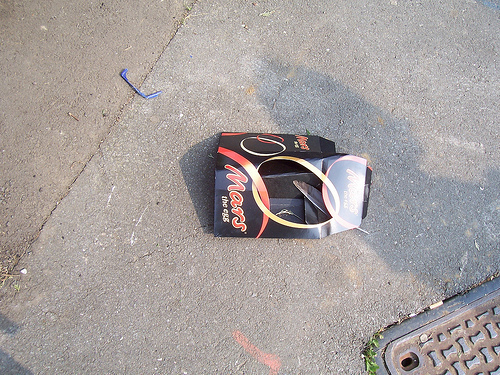litter: (212, 130, 372, 241), (118, 67, 161, 100), (430, 300, 444, 309)
